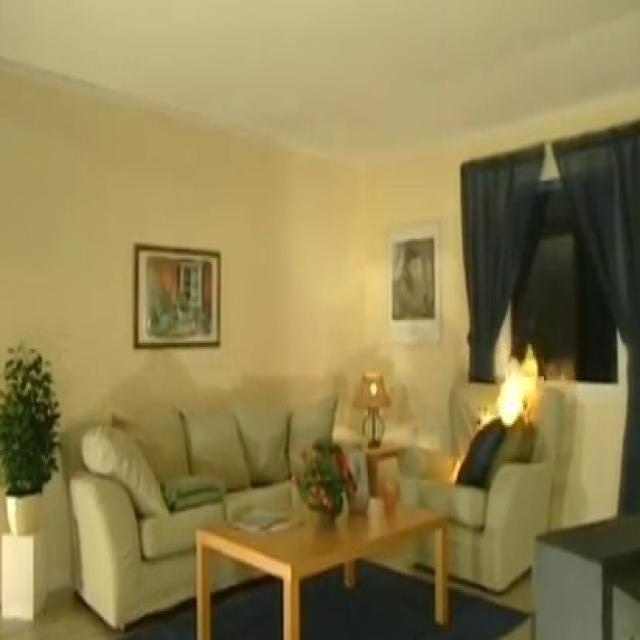fire: (440, 339, 558, 510)
